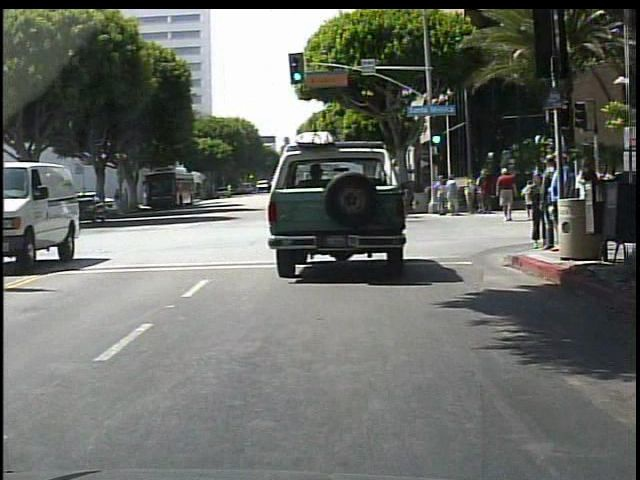person: (544, 150, 568, 261), (527, 169, 549, 250), (543, 151, 560, 252), (498, 166, 518, 223), (521, 177, 540, 223), (541, 170, 556, 219), (446, 174, 461, 217), (480, 168, 493, 212), (463, 172, 476, 212), (436, 174, 446, 212), (113, 187, 122, 211), (123, 186, 131, 211)
